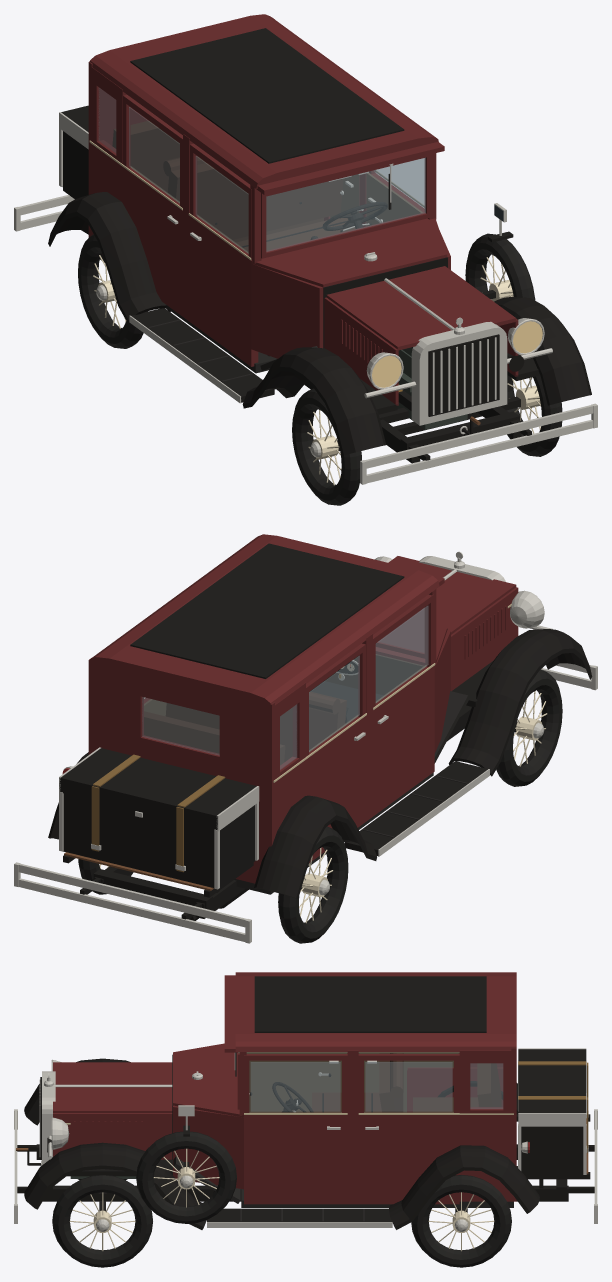
Rendered from HotelCar.fbx.
3 renders of one model, top to bottom at view 1: azimuth 30°, elevation 25°; view 2: azimuth 150°, elevation 25°; view 3: azimuth 270°, elevation 25°, orthographic. The views are drawn at different scales.
Visible parts, largest first — view 1: Body, Windshield, Door_FR, Door_RR, Wheel_FR, Spare, Wheel_RR, Glass_FR, Hood_R, Glass_RR, Wheel_FL, Door_FL (+3 smaller); view 2: Body, TrunkLid, Door_FR, Door_RR, Wheel_RR, Wheel_FR, Hood_R, Glass_FR, Glass_RR, Windshield, Strap_L, Strap_R; view 3: Body, Door_FL, Door_RL, Spare, Wheel_FL, TrunkLid, Wheel_RL, Glass_FL, Glass_RL, Door_FR, Hood_L, Door_RR (+1 smaller).
Part boxes in pixels (x1,y1,x2,y2): Body: (14,14,597,484); Windshield: (261,154,431,258); Door_FR: (188,143,251,348); Door_RR: (122,95,182,298); Wheel_FR: (292,388,361,505); Spare: (465,203,535,301); Wheel_RR: (78,234,147,348); Glass_FR: (196,156,248,252); Hood_R: (324,297,398,405); Glass_RR: (129,107,179,202); Wheel_FL: (506,375,562,456); Door_FL: (366,170,424,226); Body: (14,534,597,943); TrunkLid: (59,747,259,831); Door_FR: (373,594,435,798); Door_RR: (306,643,366,815); Wheel_RR: (278,826,348,943); Wheel_FR: (496,669,562,786); Hood_R: (451,587,518,691); Glass_FR: (376,606,428,702); Glass_RR: (309,656,359,751); Windshield: (375,607,425,658); Strap_L: (91,754,140,851); Strap_R: (175,775,225,872); Body: (14,972,597,1229); Door_FL: (244,1054,347,1189); Door_RL: (358,1054,459,1189); Spare: (136,1105,236,1223); Wheel_FL: (52,1175,152,1267); TrunkLid: (518,1048,586,1126); Wheel_RL: (411,1175,511,1267); Glass_FL: (251,1062,340,1111); Glass_RL: (365,1062,452,1111); Door_FR: (246,1053,347,1112); Hood_L: (53,1113,172,1159); Door_RR: (358,1053,459,1112).
Bounding box in the file's own units: 187 × 180 × 428.
